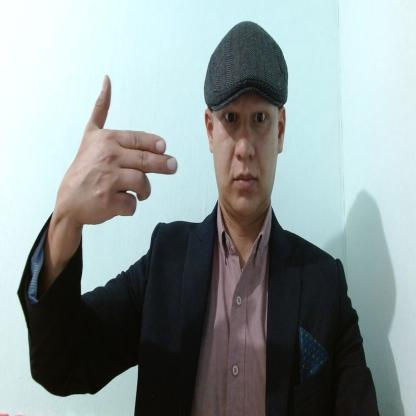H: (57, 70, 178, 223)
